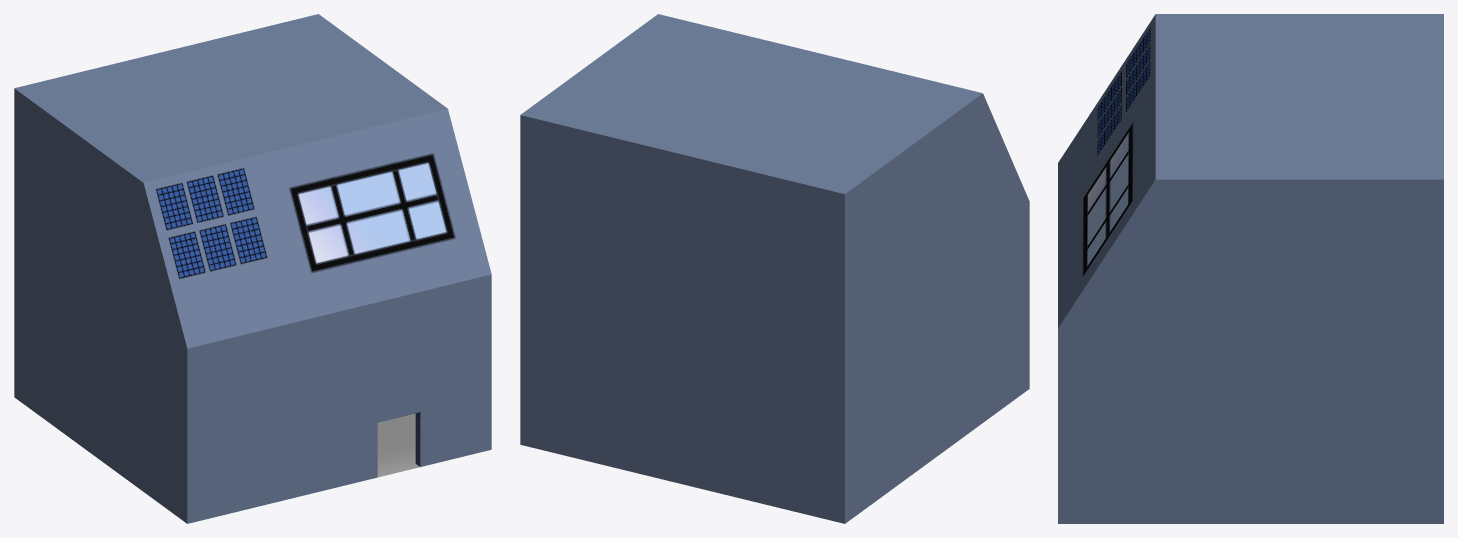
Rendered from model_building_lab.fbx.
3 views of the same model, side by side, from view 1: azimuth 30°, elevation 25°; view 2: azimuth 150°, elevation 25°; view 3: azimuth 270°, elevation 25° (orthographic). The views are drawn at different scales.
Visible parts, largest first — view 1: Cube; view 2: Cube; view 3: Cube.
Boxes of the visible parts, x1,y1,x2,y2 form: Cube: (14,14,491,523); Cube: (520,14,1029,523); Cube: (1058,14,1443,523).
Bounding box in the file's own units: 1067 × 1035 × 1051.
